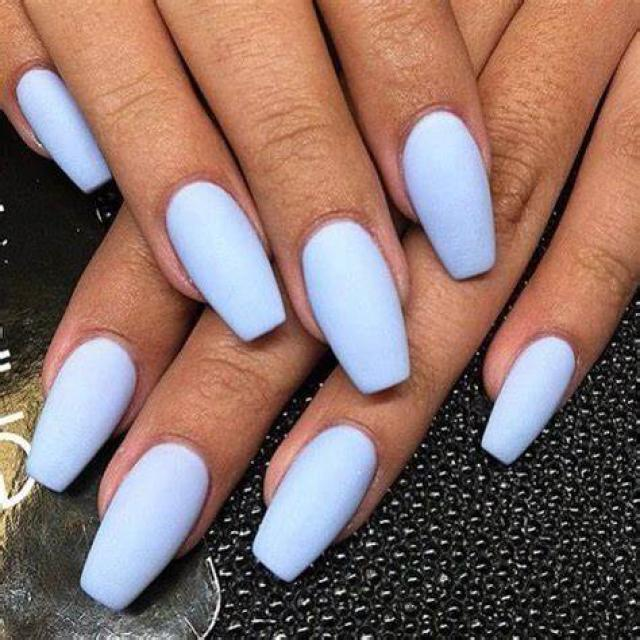Fingernail: (81, 441, 209, 610), (253, 422, 377, 580), (302, 219, 409, 393), (167, 181, 284, 340), (28, 335, 136, 490), (402, 110, 495, 279), (482, 335, 575, 462), (17, 67, 110, 190)
